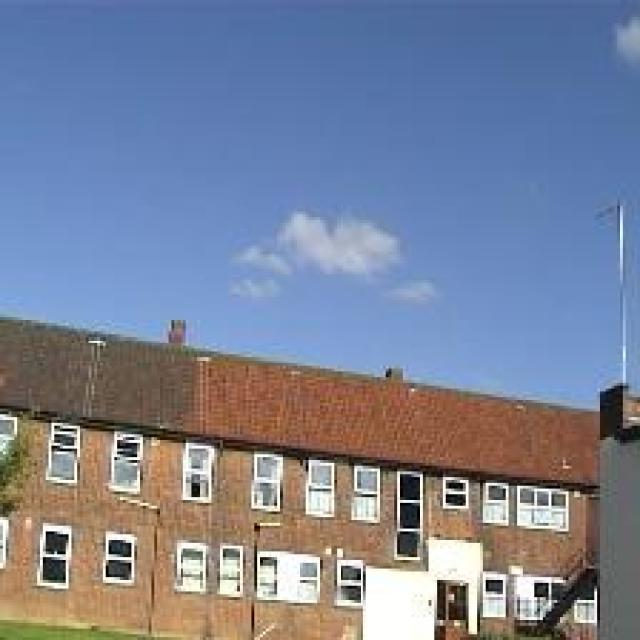other: (349, 521, 484, 629)
